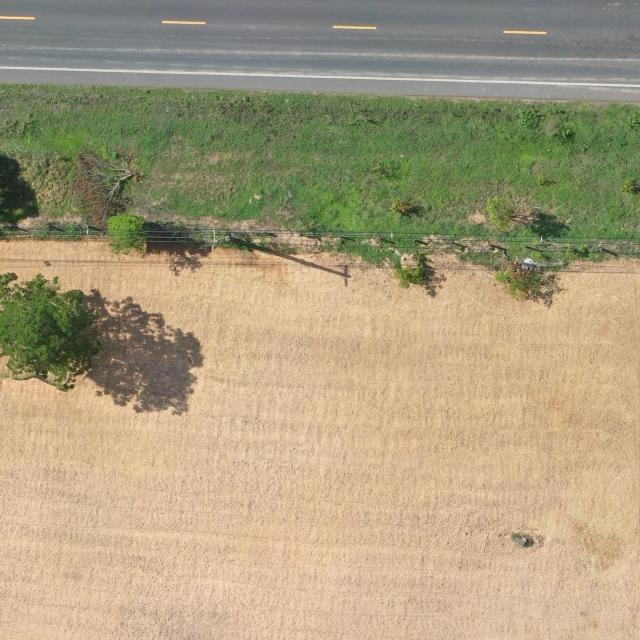Tree: (0, 271, 103, 394), (106, 214, 144, 257)
